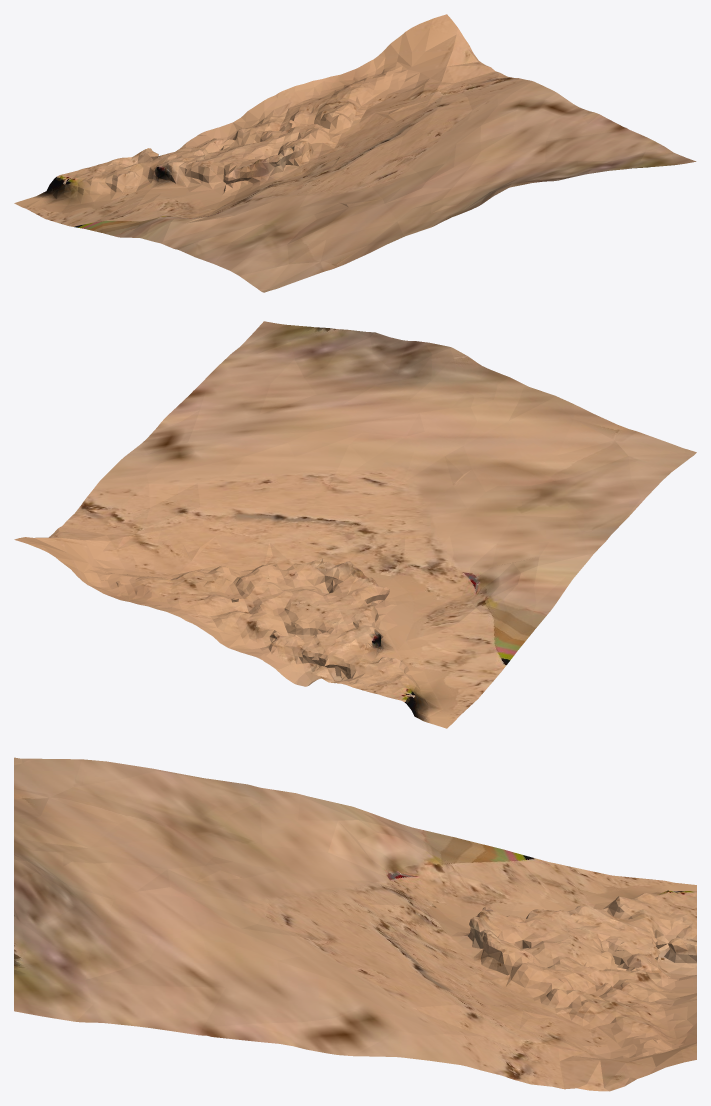
3 renders of one model, top to bottom at view 1: azimuth 30°, elevation 25°; view 2: azimuth 150°, elevation 25°; view 3: azimuth 270°, elevation 25°, orthographic. The views are drawn at different scales.
Size of the model in its own units: 1.04 by 0.3195 by 1.04.
Materials: 3 (3 with a texture image).
